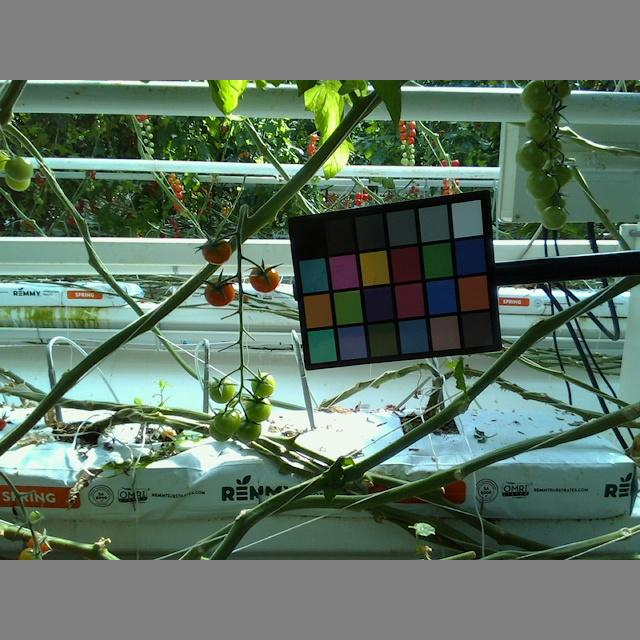green: (523, 168, 556, 199), (516, 140, 547, 171), (521, 81, 552, 110), (541, 202, 569, 230), (525, 113, 552, 141), (208, 380, 236, 406), (212, 412, 240, 436), (250, 374, 276, 399), (235, 419, 263, 442), (246, 399, 271, 420)
pink: (201, 277, 235, 307), (201, 237, 232, 266), (249, 264, 280, 292)
